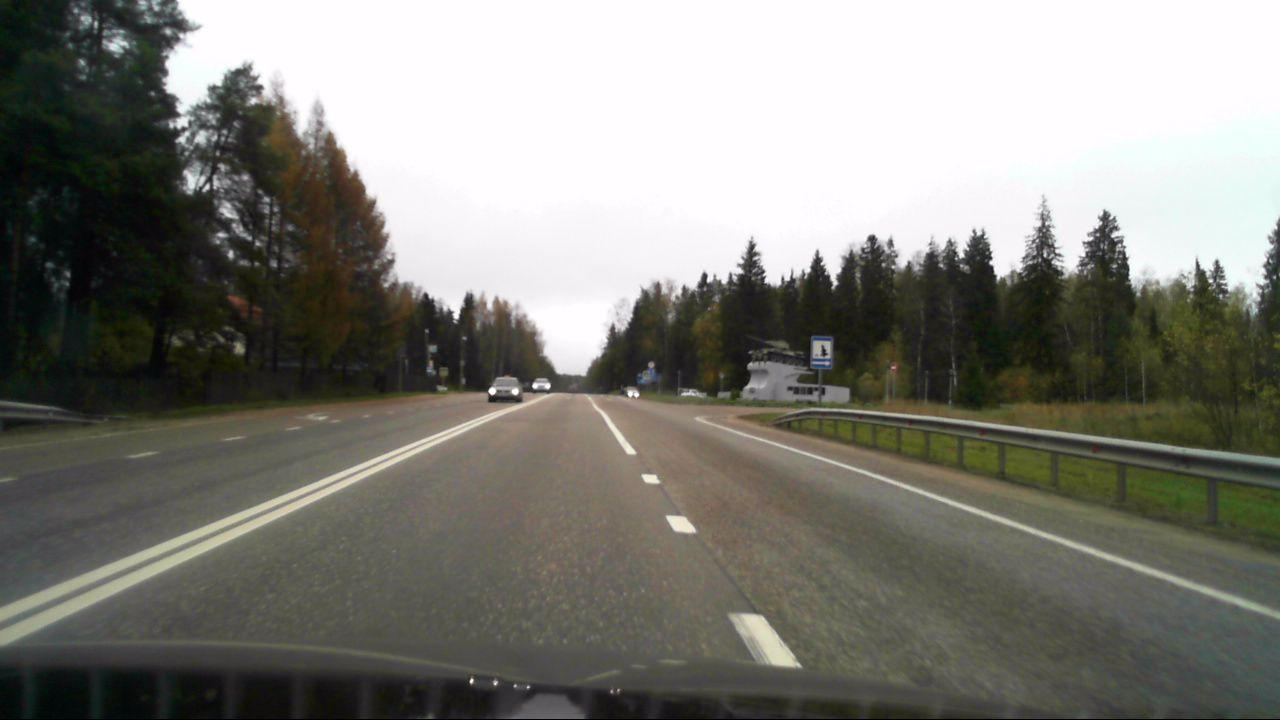7_11: (810, 336, 832, 369)
